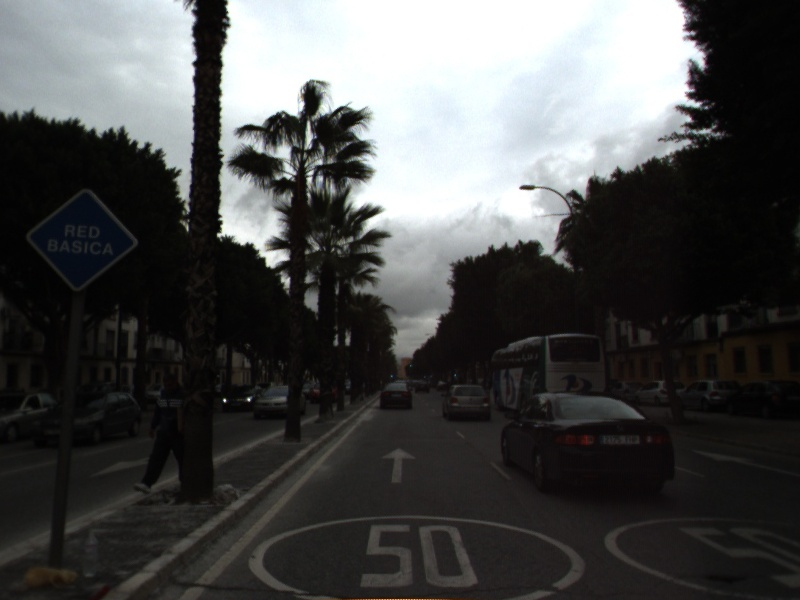STRAIGHT: (692, 448, 800, 477), (378, 445, 418, 485)
